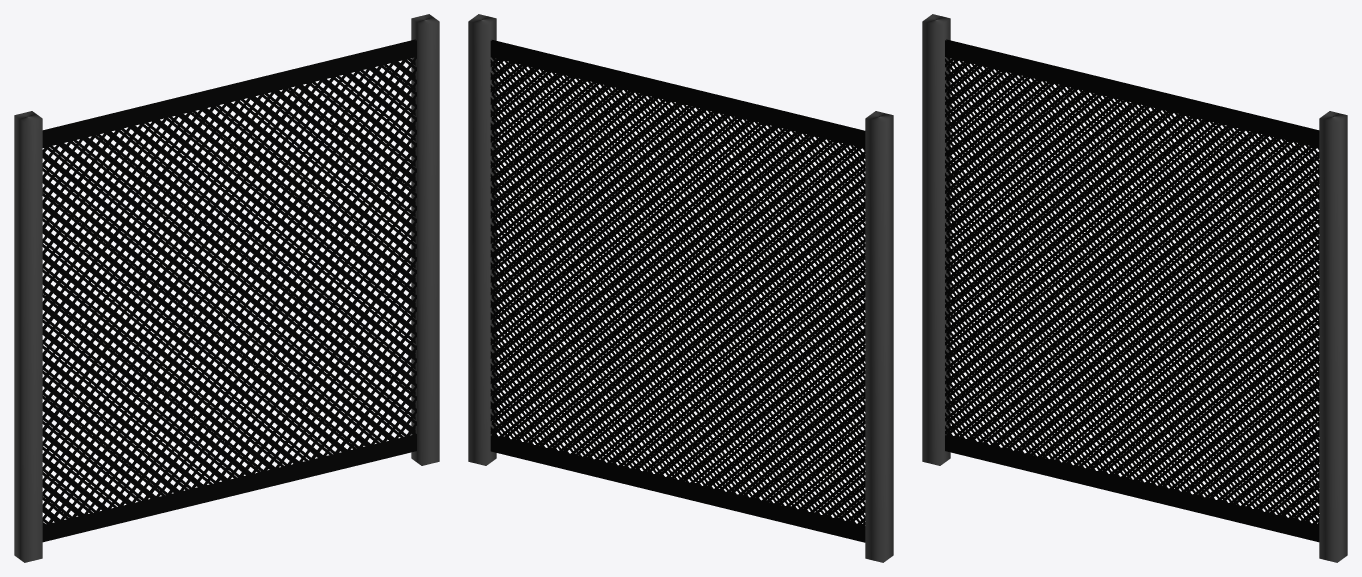
File: fence.fbx
3 views of the same model, side by side, from view 1: azimuth 30°, elevation 25°; view 2: azimuth 150°, elevation 25°; view 3: azimuth 330°, elevation 25° (orthographic).
Visible parts, largest first — view 1: polySurface336; view 2: polySurface336; view 3: polySurface336.
Part boxes in pixels (x1,y1,x2,y2): polySurface336: [14, 14, 439, 562]; polySurface336: [468, 14, 893, 562]; polySurface336: [922, 14, 1347, 562].
Size of the model in its own units: 8.51 by 8.63 by 0.3674.
Materials: 2 (1 with a texture image).
